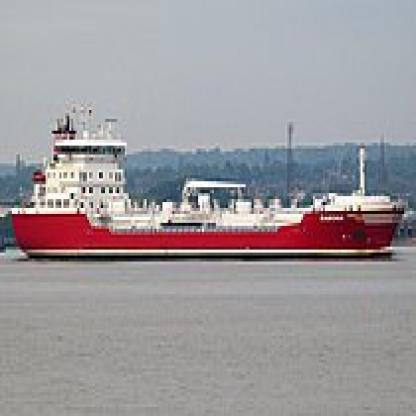Tanker: (16, 119, 404, 273)
